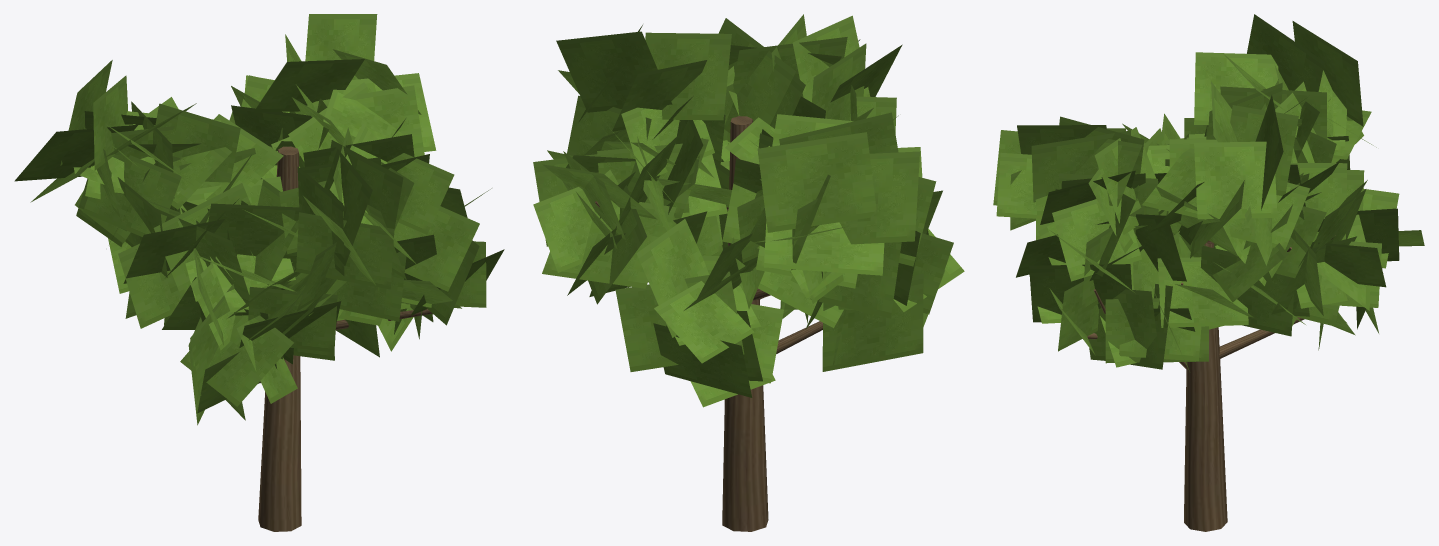
3 renders of one model, left to right at view 1: azimuth 30°, elevation 25°; view 2: azimuth 150°, elevation 25°; view 3: azimuth 270°, elevation 25°, orthographic. The views are drawn at different scales.
Parts seen in each view (by area): view 1: oak-leaf, oak-bark; view 2: oak-leaf, oak-bark; view 3: oak-leaf, oak-bark.
Part boxes in pixels (x1,y1,x2,y2): oak-leaf: (14, 14, 504, 425); oak-bark: (258, 146, 432, 531); oak-leaf: (533, 14, 964, 407); oak-bark: (595, 116, 822, 531); oak-leaf: (993, 14, 1424, 371); oak-bark: (1087, 235, 1335, 531).
Size of the model in its own units: 8.08 by 9.7 by 8.27.
Materials: 2 (2 with a texture image).
